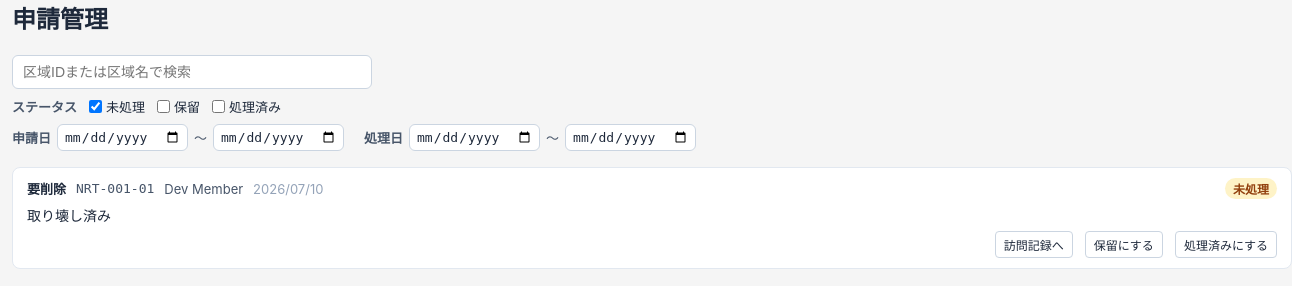
Test: RequestsPage 申請一覧 › 行内操作でステータスを変更でき、処理済みで処理日・処理者を記録する
Expected: the text "取り壊し済み" is shown, [27,207,111,224]
Click the button "処理済みにする".
click(1226, 244)  # box [1175,231,1277,258]
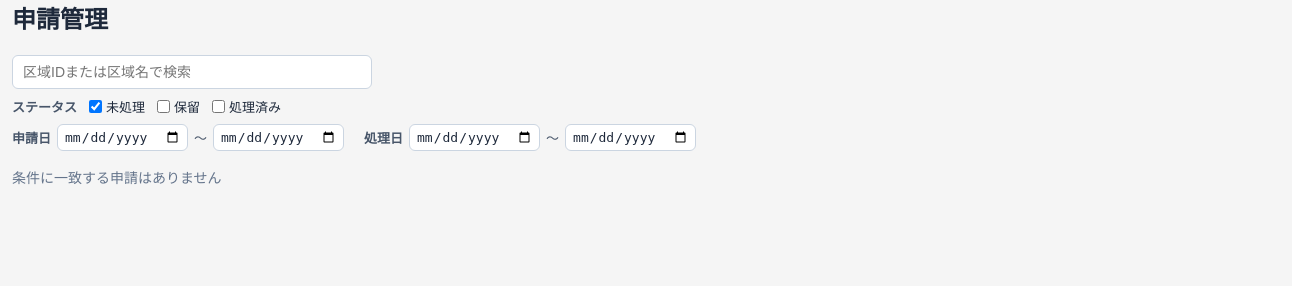
Expected: no list items with test id "request-row" are shown
